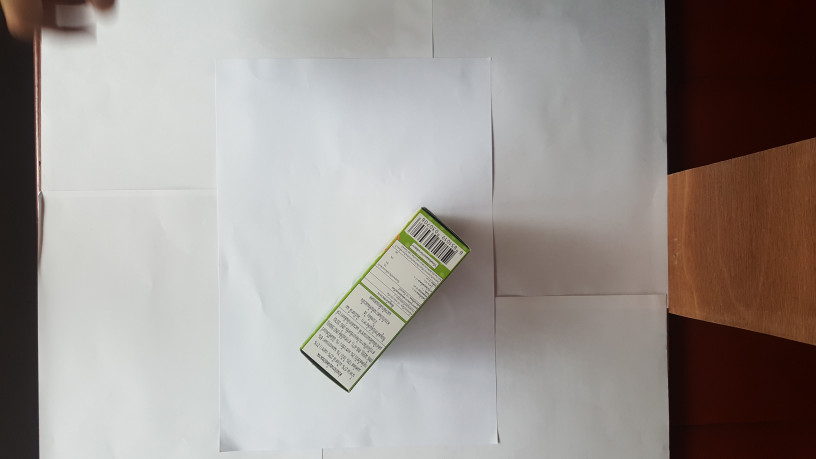collon-matcha: (297, 206, 472, 396)
